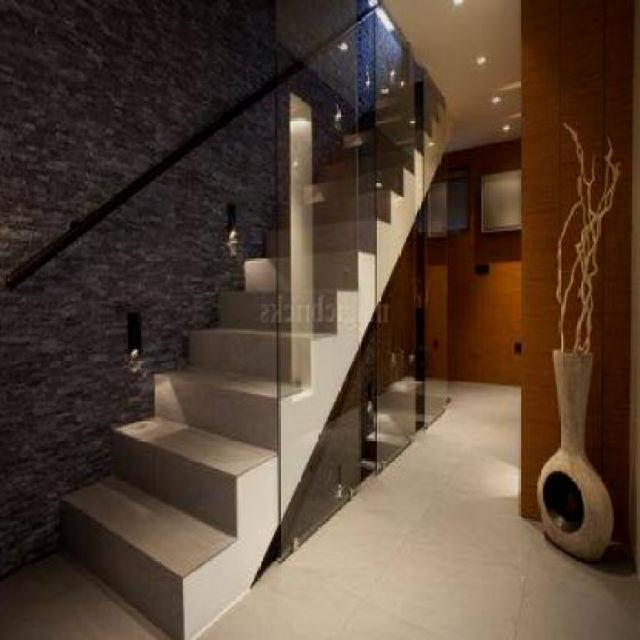stair: (35, 21, 468, 638)
